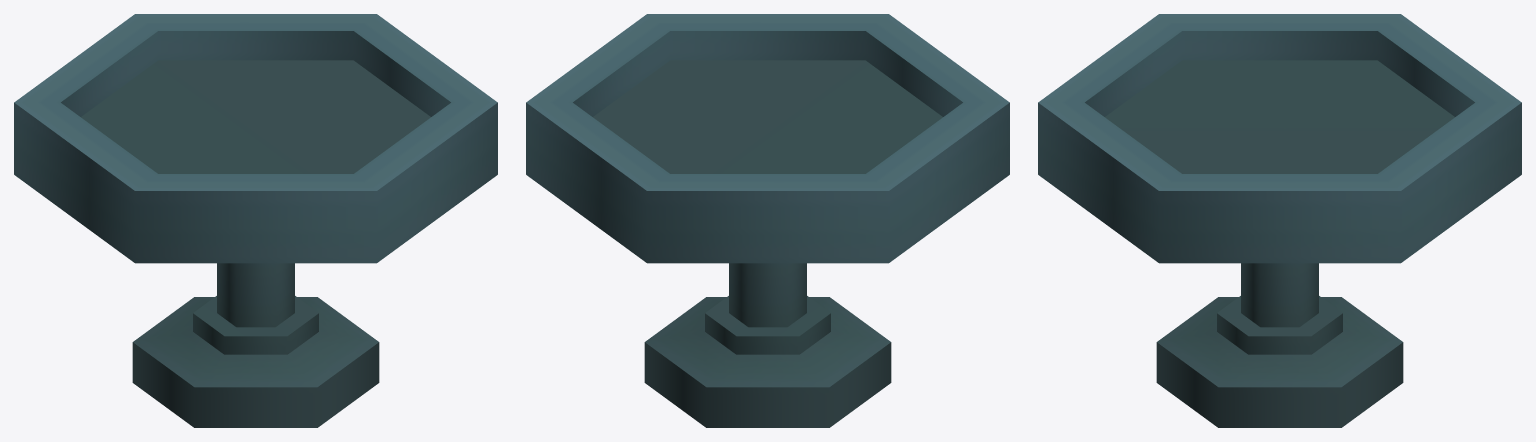
File: FoodProp_1_F.fbx
3 renders of one model, left to right at view 1: azimuth 30°, elevation 25°; view 2: azimuth 150°, elevation 25°; view 3: azimuth 270°, elevation 25°, orthographic.
Parts seen in each view (by area): view 1: FoodProp_1_F; view 2: FoodProp_1_F; view 3: FoodProp_1_F.
Boxes of the visible parts, <box> form: FoodProp_1_F: <box>14,14,497,427</box>; FoodProp_1_F: <box>526,14,1009,427</box>; FoodProp_1_F: <box>1038,14,1521,427</box>.
Size of the model in its own units: 49.95 by 36.88 by 57.67.
